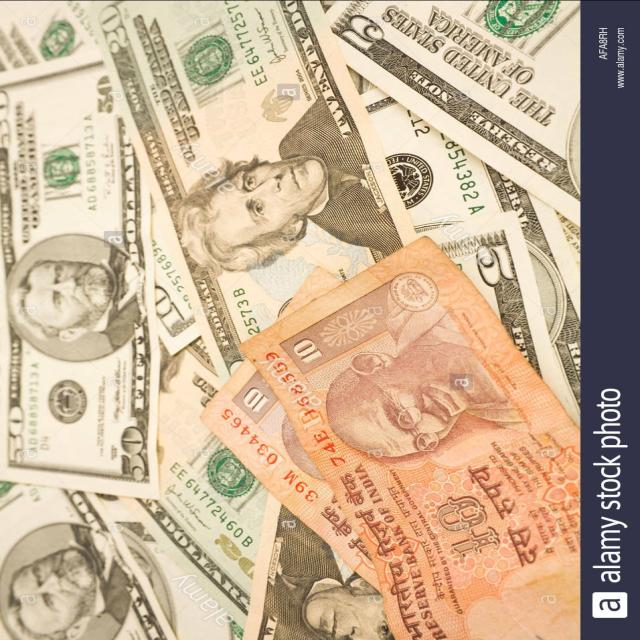10IndianRupees: (267, 243, 584, 640)
